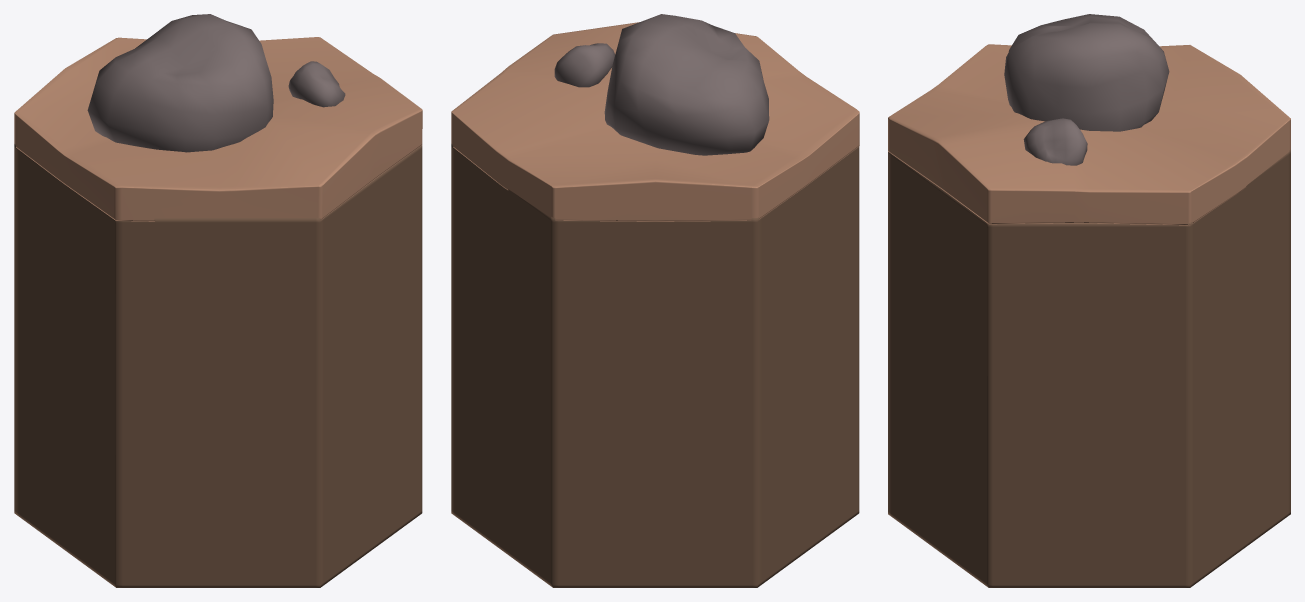
File: rock_hex.fbx
The picture shows the model from 3 angles, left to right: view 1: azimuth 30°, elevation 25°; view 2: azimuth 150°, elevation 25°; view 3: azimuth 270°, elevation 25°; orthographic projection.
Parts seen in each view (by area): view 1: Cylinder, Cylinder.001, Cube, Cube.001; view 2: Cylinder, Cylinder.001, Cube, Cube.001; view 3: Cylinder, Cylinder.001, Cube, Cube.001.
Boxes of the visible parts, bbox=[...] form: Cylinder: bbox=[14, 144, 422, 587]; Cylinder.001: bbox=[14, 37, 422, 221]; Cube: bbox=[87, 14, 273, 152]; Cube.001: bbox=[288, 61, 345, 107]; Cylinder: bbox=[451, 143, 859, 587]; Cylinder.001: bbox=[451, 22, 859, 221]; Cube: bbox=[604, 14, 769, 155]; Cube.001: bbox=[554, 43, 614, 87]; Cylinder: bbox=[888, 149, 1290, 587]; Cylinder.001: bbox=[888, 44, 1290, 225]; Cube: bbox=[1004, 14, 1169, 131]; Cube.001: bbox=[1023, 118, 1087, 165].
Bounding box in the file's own units: 175 × 264 × 200.
